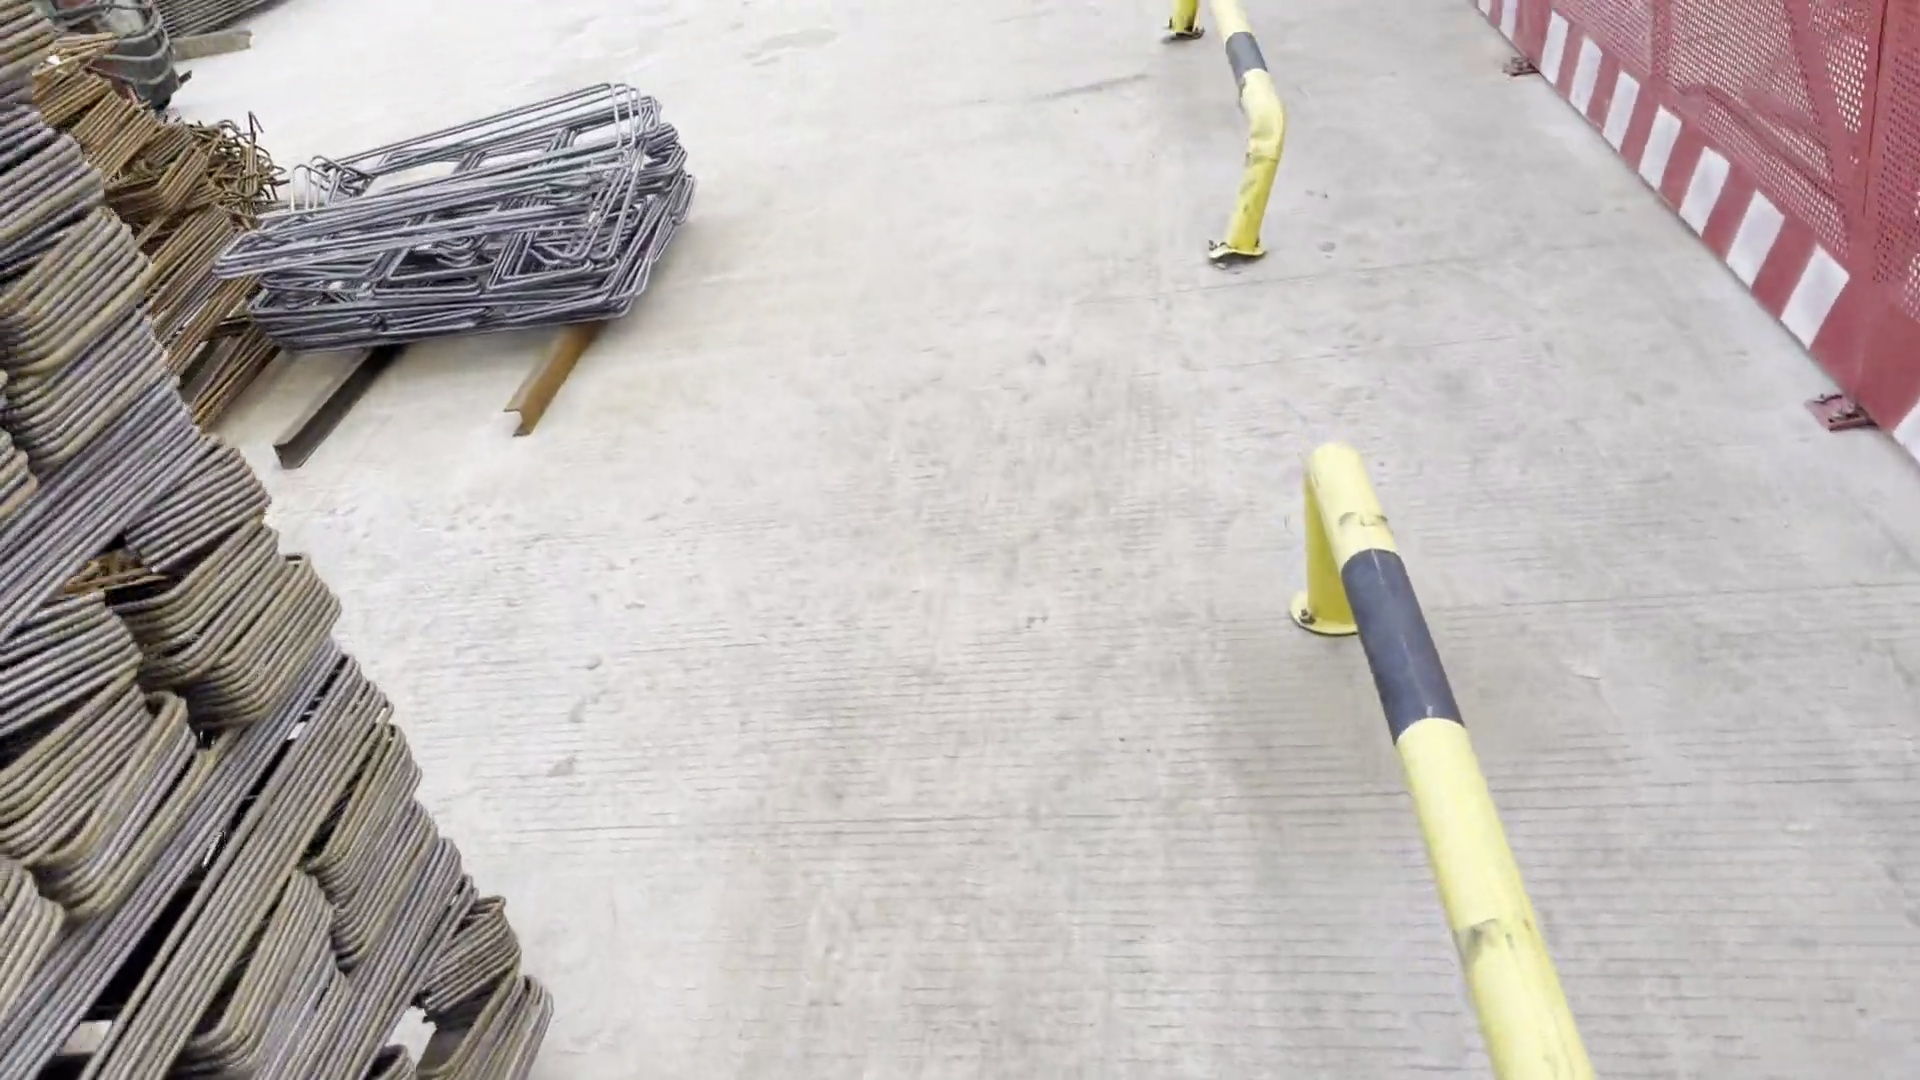fence: (1484, 1, 1920, 472)
